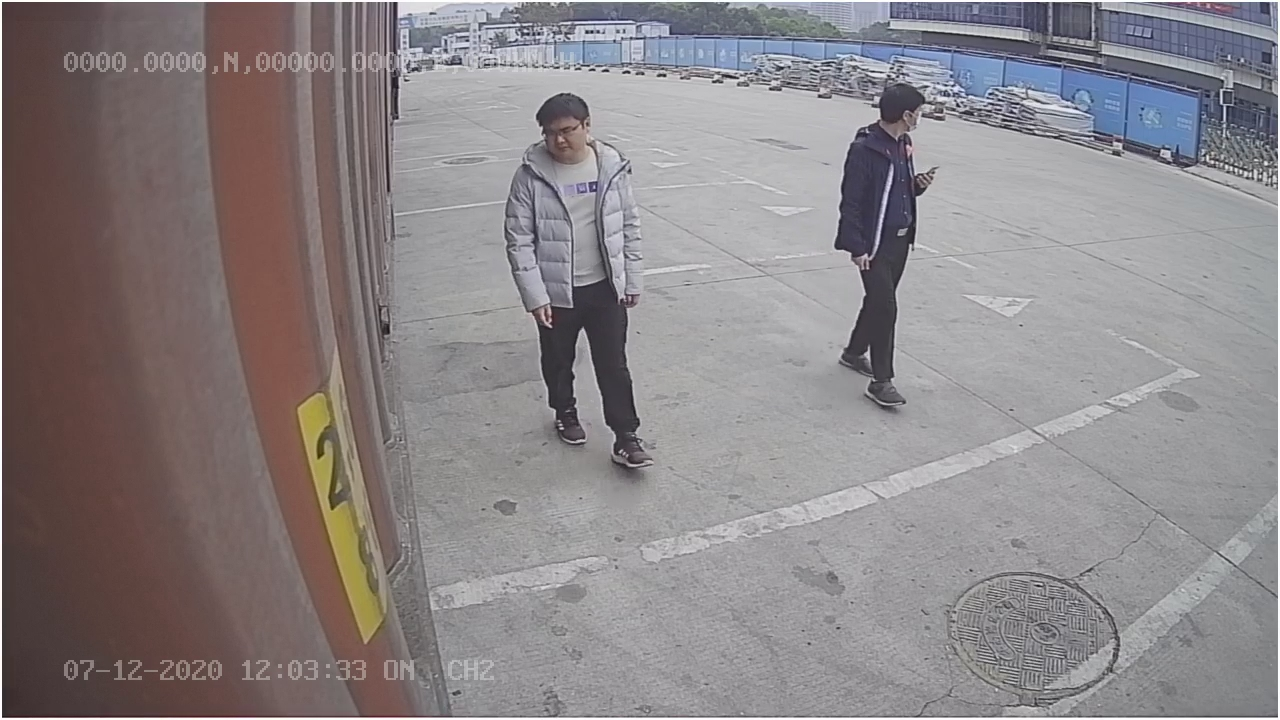person: (502, 88, 655, 471), (828, 75, 938, 412)
